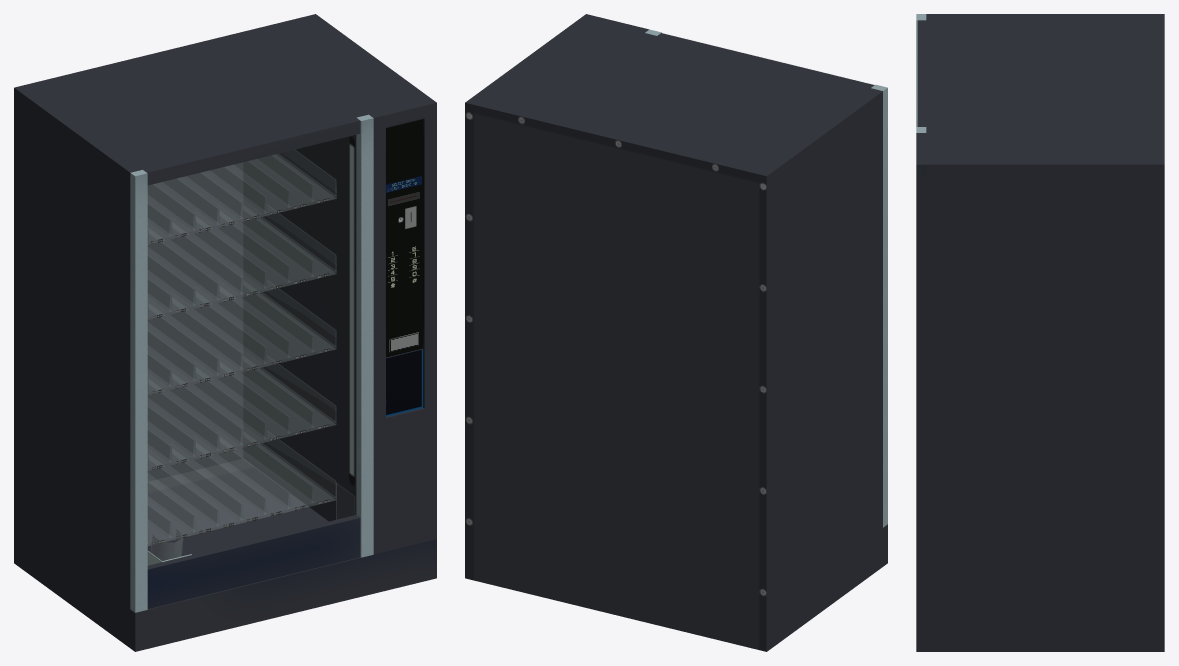
The model's file is DrinksMachine.fbx.
3 views of the same model, side by side, from view 1: azimuth 30°, elevation 25°; view 2: azimuth 150°, elevation 25°; view 3: azimuth 270°, elevation 25° (orthographic). The views are drawn at different scales.
Parts seen in each view (by area): view 1: DrinksMachine; view 2: DrinksMachine; view 3: DrinksMachine.
Part boxes in pixels (x1,y1,x2,y2): DrinksMachine: [14, 14, 436, 651]; DrinksMachine: [465, 14, 887, 651]; DrinksMachine: [916, 14, 1164, 651].
Size of the model in its own units: 122 by 183 by 84.5.
